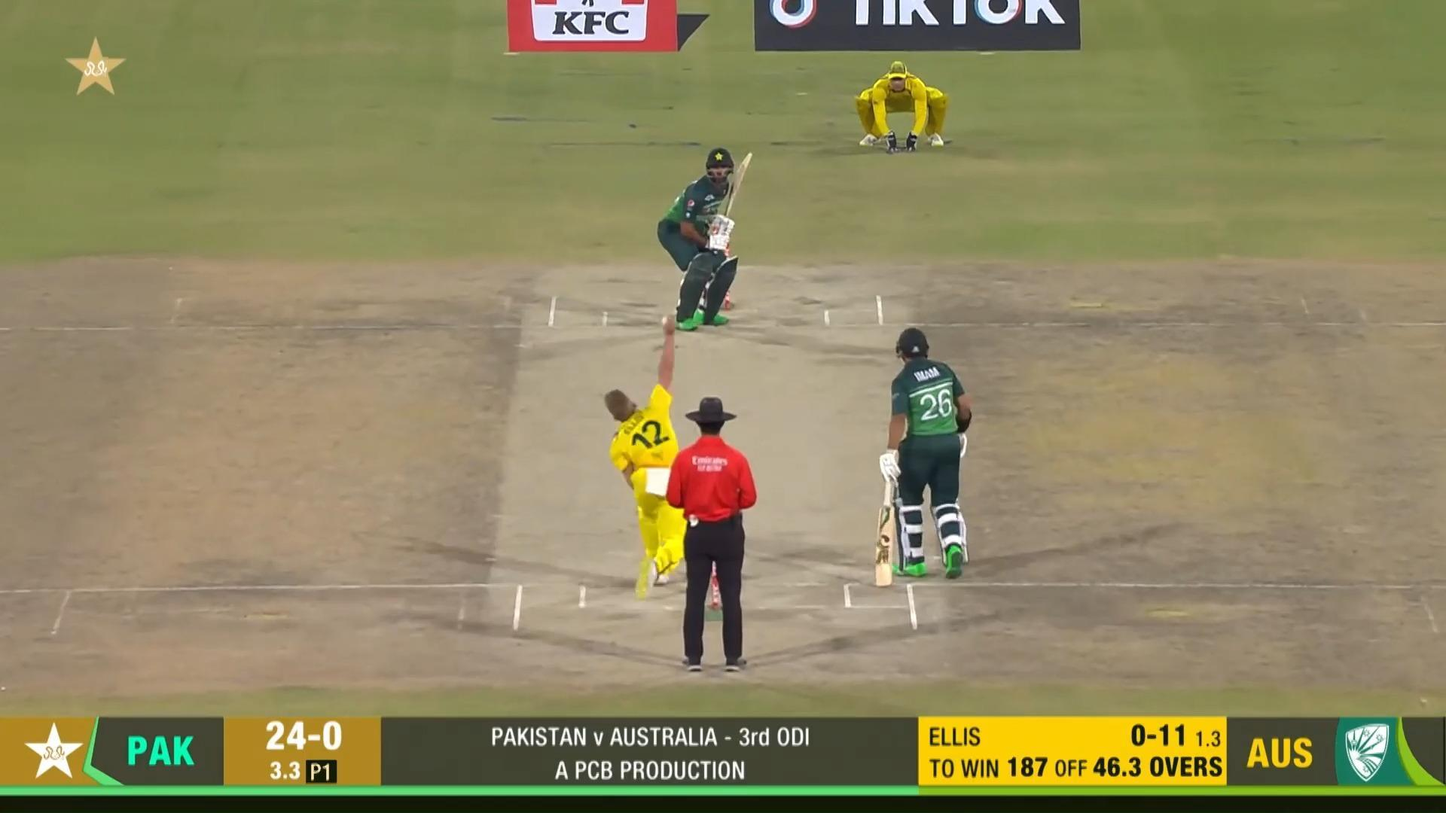BM 1: (655, 145, 756, 333)
BO: (604, 312, 697, 599)
